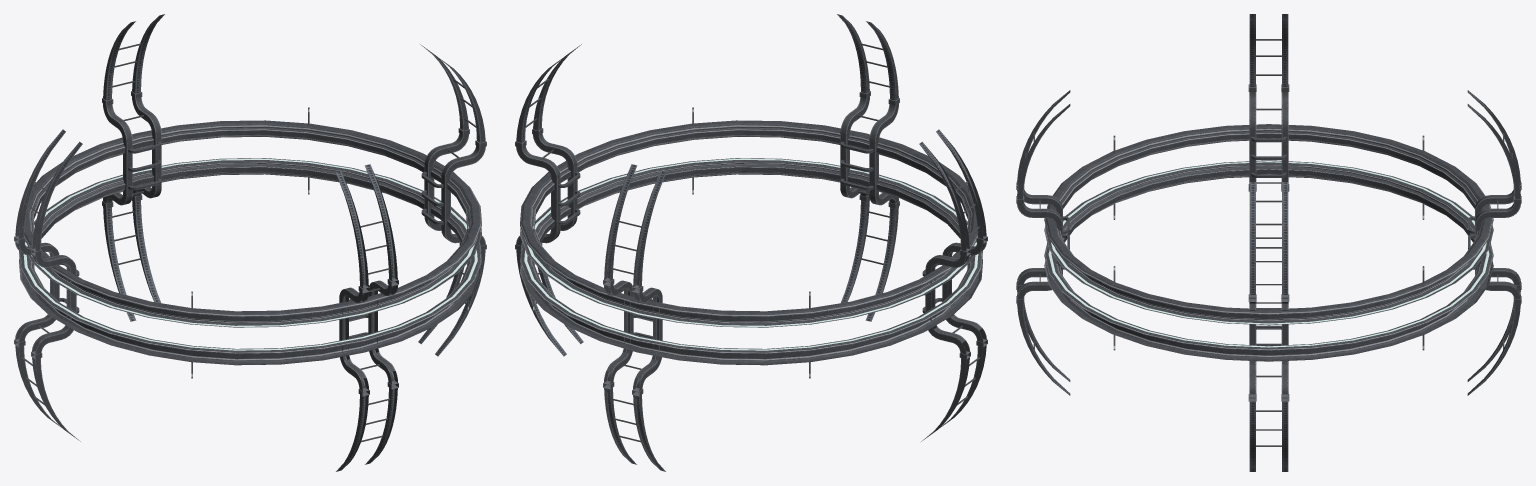
Rendered from hc_halo_body.obj.
3 renders of one model, left to right at view 1: azimuth 30°, elevation 25°; view 2: azimuth 150°, elevation 25°; view 3: azimuth 270°, elevation 25°, orthographic. The views are drawn at different scales.
Visible parts, largest first — view 1: halo_tria_merge; view 2: halo_tria_merge; view 3: halo_tria_merge.
Boxes of the visible parts, <box> form: halo_tria_merge: <box>14,14,486,471</box>; halo_tria_merge: <box>515,14,987,471</box>; halo_tria_merge: <box>1016,14,1521,471</box>.
Size of the model in its own units: 75769 by 47989 by 75769.
